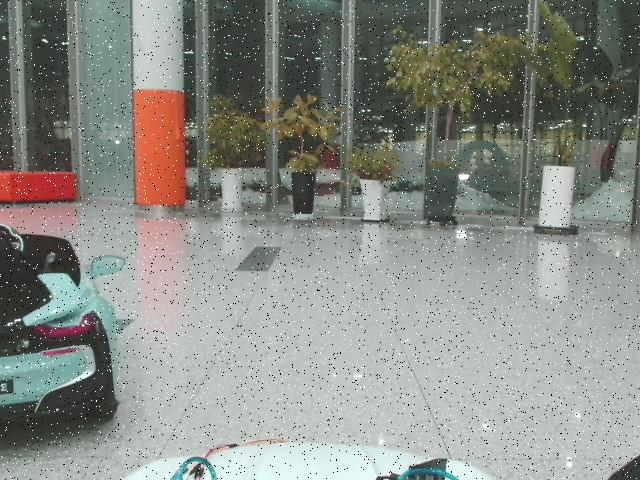car: (1, 224, 126, 450)
